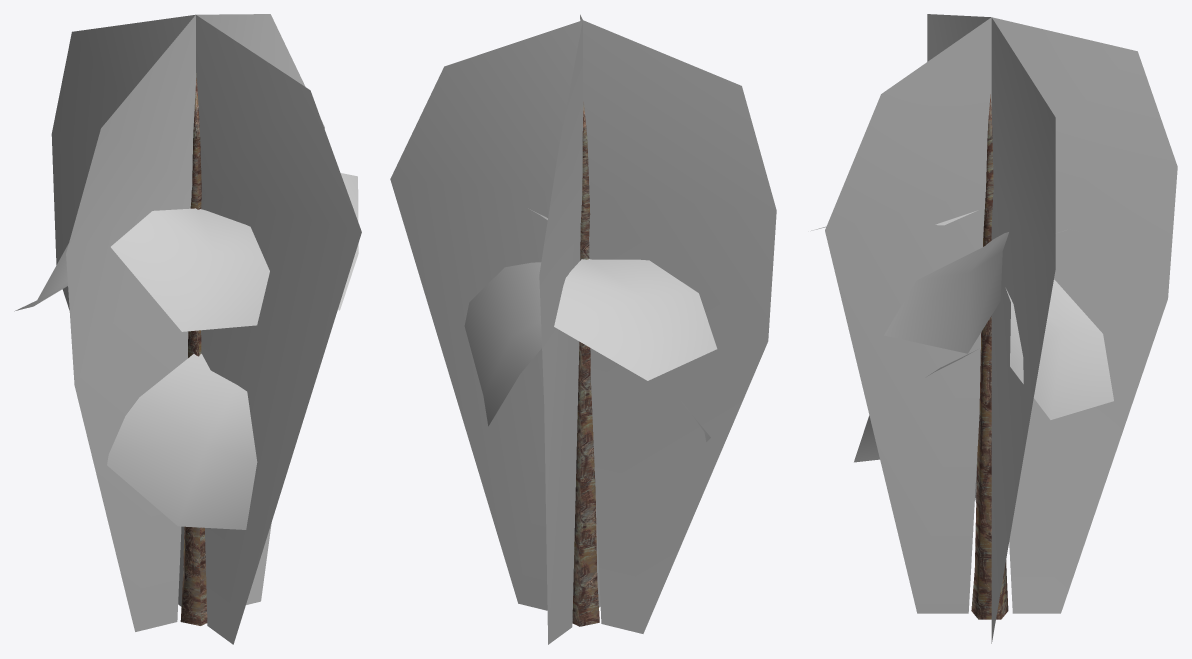
The model's file is Fol_PinePlateC.FBX.
3 renders of one model, left to right at view 1: azimuth 30°, elevation 25°; view 2: azimuth 150°, elevation 25°; view 3: azimuth 270°, elevation 25°, orthographic.
Parts seen in each view (by area): view 1: Pine_Plate_3, Trunk; view 2: Pine_Plate_3, Trunk; view 3: Pine_Plate_3, Trunk.
Boxes of the visible parts, x1,y1,x2,y2 form: Pine_Plate_3: (14,14,361,644); Trunk: (180,73,207,625); Pine_Plate_3: (390,14,776,644); Trunk: (572,102,599,626); Pine_Plate_3: (811,14,1177,643); Trunk: (971,94,1008,619).
Size of the model in its own units: 566 by 991 by 561.
